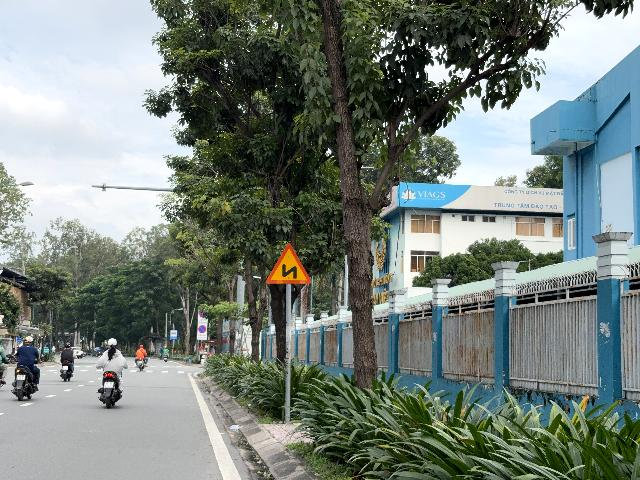nhieu-cho-ngoat-nguy-hiem-lien-tiep: (266, 242, 312, 283)
